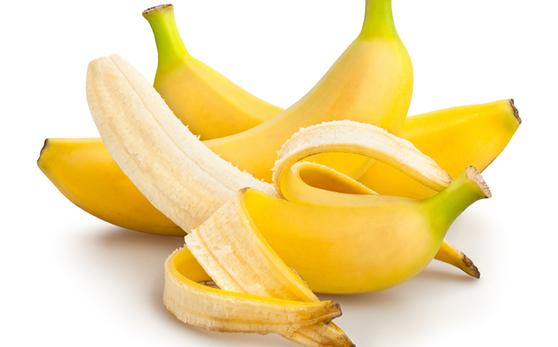banana: (47, 15, 421, 236)
